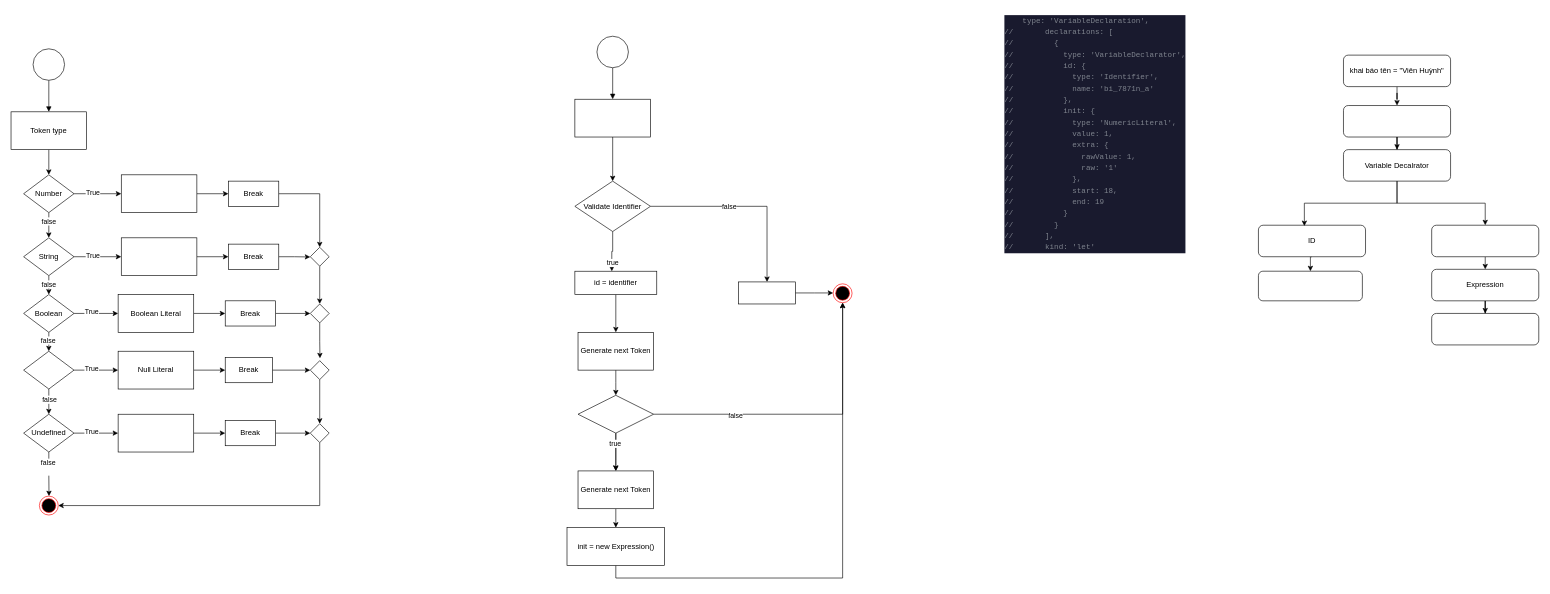
Image size: 1550x594. Some labels were removed from this diagram. The centre of each missing label's shape, as x and y in pixels:
Identifier (tên): pixel 1310 286
Init: pixel 1485 241
next token type is "=": pixel 615 414
Null: pixel 48 370
Number Literal: pixel 159 193
String Literal: pixel 159 256
String Literal (Viên Huỳnh): pixel 1485 329
Throw error: pixel 766 292
Token: pixel 612 118
Undefined Literal: pixel 155 433
Variable Decalration: pixel 1397 121
